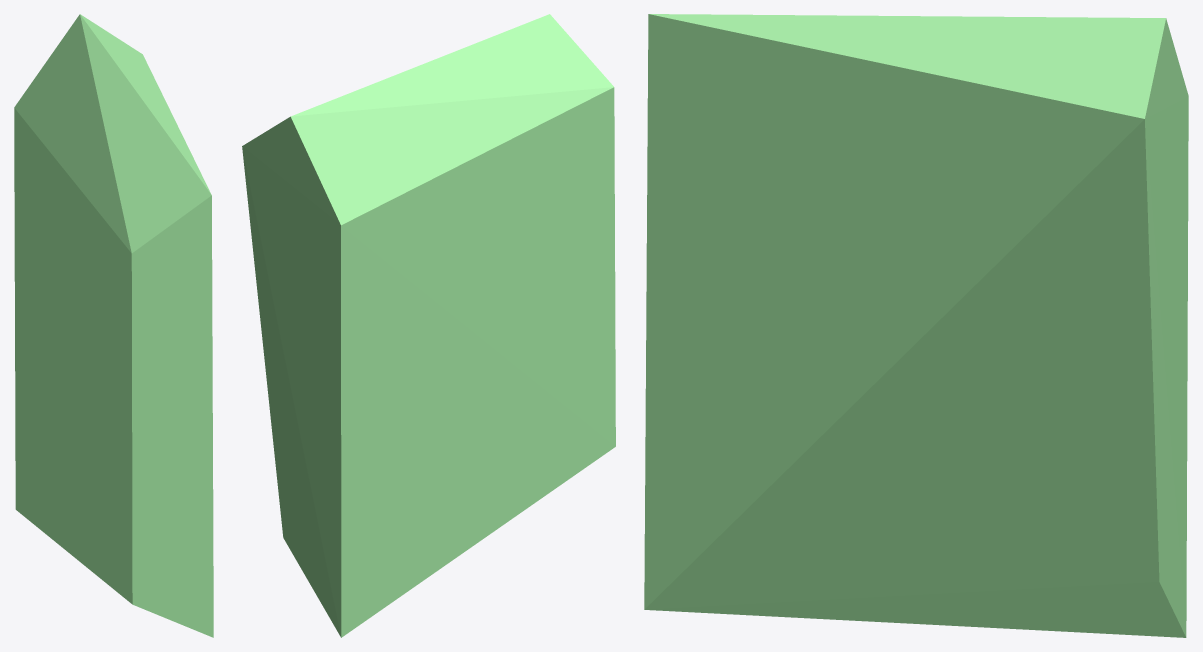
The model's file is spatula_robot_base_coll_13.dae.
3 views of the same model, side by side, from view 1: azimuth 30°, elevation 25°; view 2: azimuth 150°, elevation 25°; view 3: azimuth 270°, elevation 25° (orthographic). The views are drawn at different scales.
Visible parts, largest first — view 1: Node_0x7fe6917b6bb0; view 2: Node_0x7fe6917b6bb0; view 3: Node_0x7fe6917b6bb0.
Part boxes in pixels (box(x1,y1,x2,y2)): Node_0x7fe6917b6bb0: box(14, 14, 213, 637); Node_0x7fe6917b6bb0: box(242, 14, 615, 637); Node_0x7fe6917b6bb0: box(644, 14, 1188, 637).
Bounding box in the file's own units: 0.0108 × 0.0268 × 0.0201.
